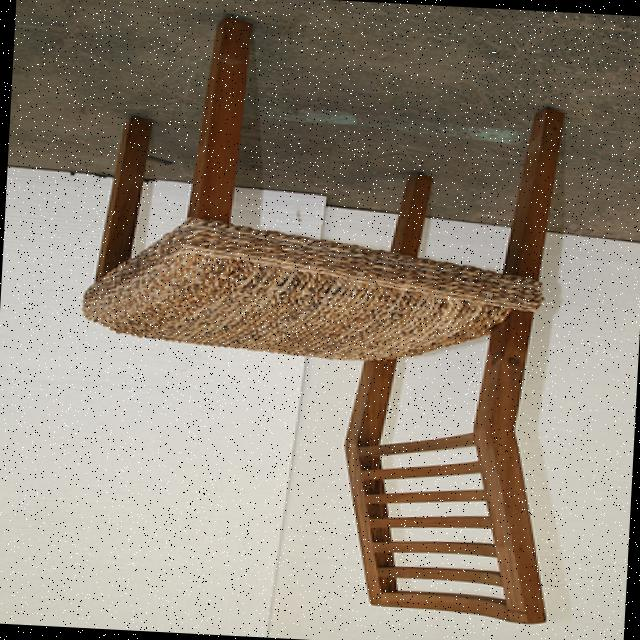Chair: (31, 0, 600, 638)
